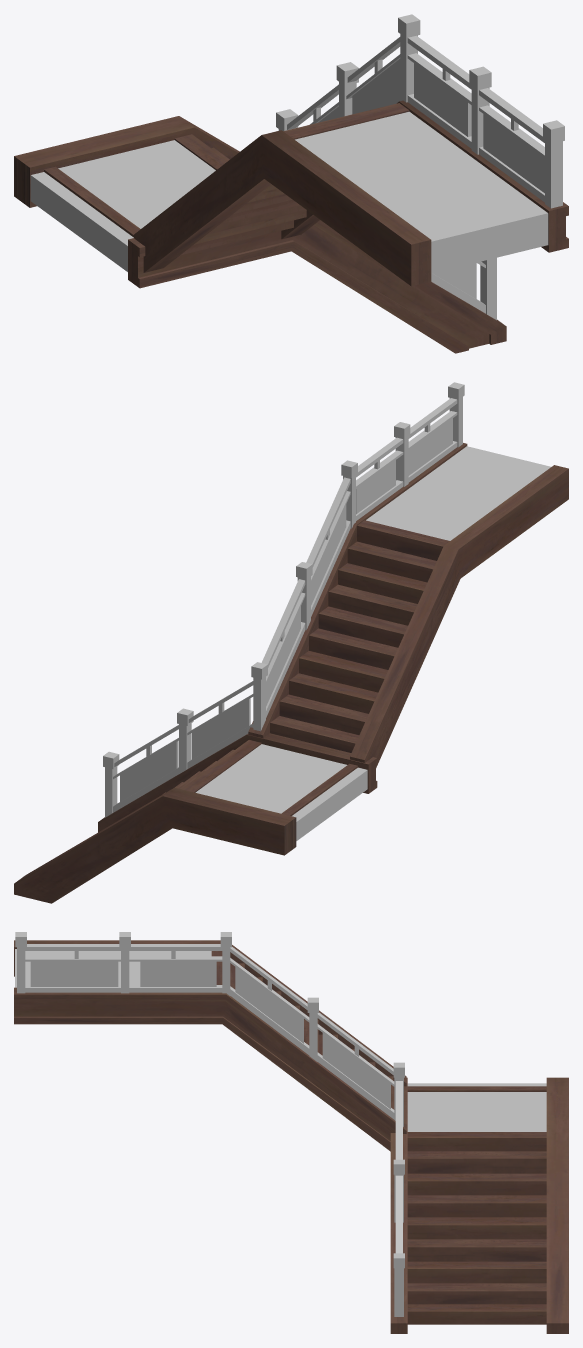
File: Homeworld_Interior_Ly_Room_K_Stair_01_Vo.fbx
The picture shows the model from 3 angles, top to bottom: view 1: azimuth 30°, elevation 25°; view 2: azimuth 150°, elevation 25°; view 3: azimuth 270°, elevation 25°; orthographic projection. The views are drawn at different scales.
Visible parts, largest first — view 1: Homeworld_Interior_Ly_Room_K_Stair_01_Vo; view 2: Homeworld_Interior_Ly_Room_K_Stair_01_Vo; view 3: Homeworld_Interior_Ly_Room_K_Stair_01_Vo.
Part boxes in pixels (x1=…): Homeworld_Interior_Ly_Room_K_Stair_01_Vo: x1=14, y1=14, x2=568, y2=353; Homeworld_Interior_Ly_Room_K_Stair_01_Vo: x1=14, y1=382, x2=568, y2=903; Homeworld_Interior_Ly_Room_K_Stair_01_Vo: x1=14, y1=932, x2=568, y2=1333.
Size of the model in its own units: 5.4 by 6.46 by 9.99.
